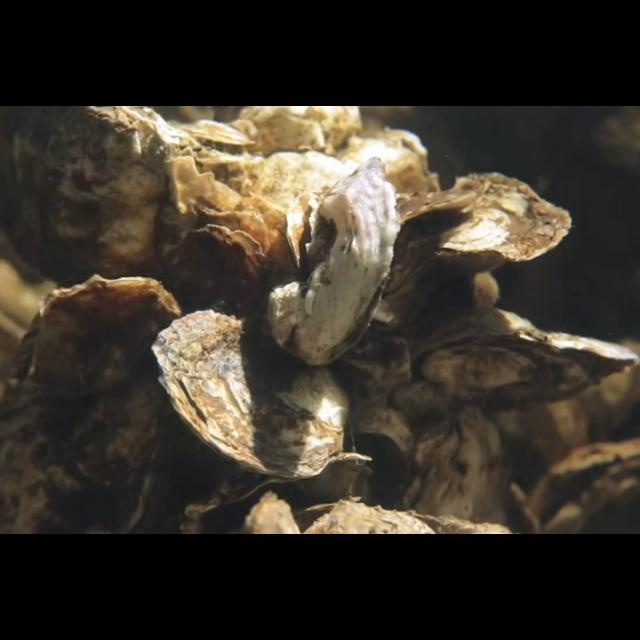Oyster-Closed: (0, 274, 184, 534), (0, 106, 220, 288), (150, 310, 354, 480), (264, 156, 400, 368), (382, 172, 574, 298), (394, 403, 512, 535), (156, 224, 268, 326)
Oyster-Open: (410, 308, 640, 414), (196, 453, 374, 535), (532, 443, 640, 535), (176, 119, 254, 169)
